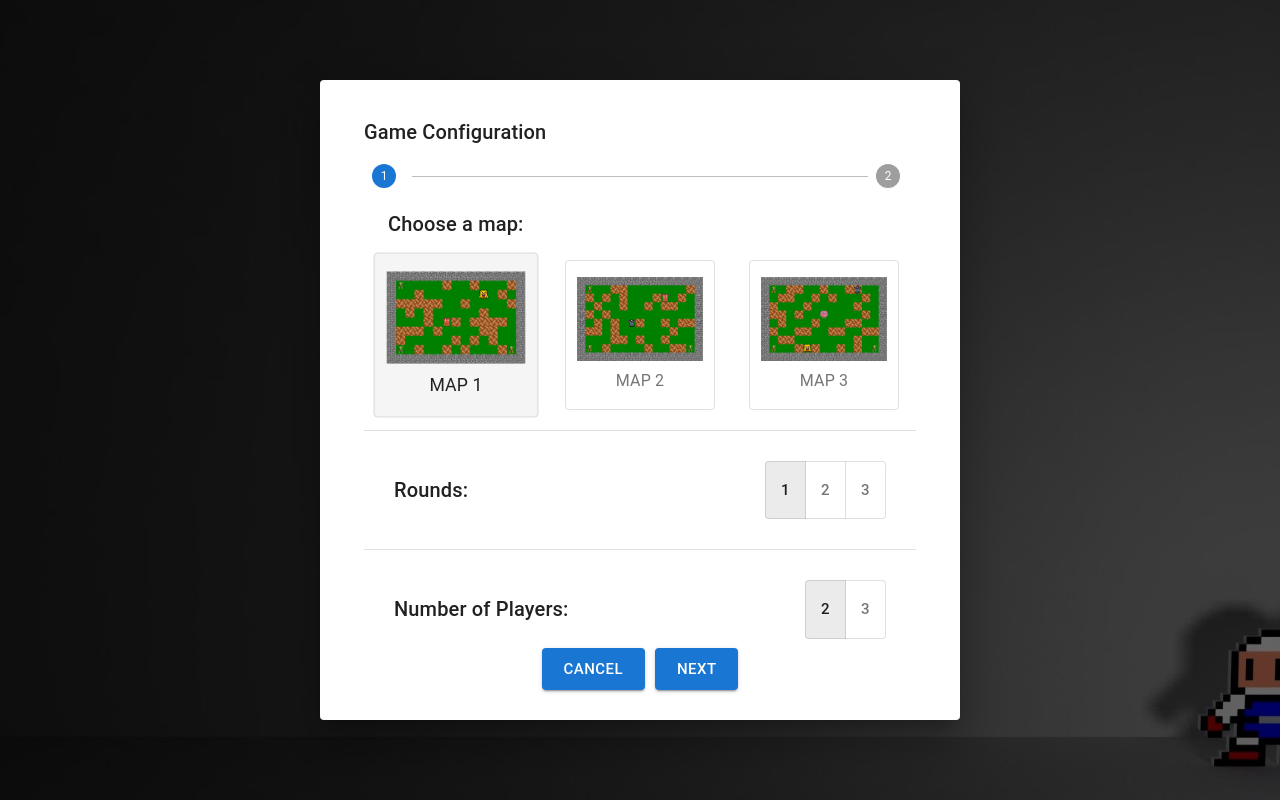
it: ConfigScreen › should proceed to the next step when the next button is clicked
Click the button "Next".
click(697, 669)  # box [655, 648, 738, 690]
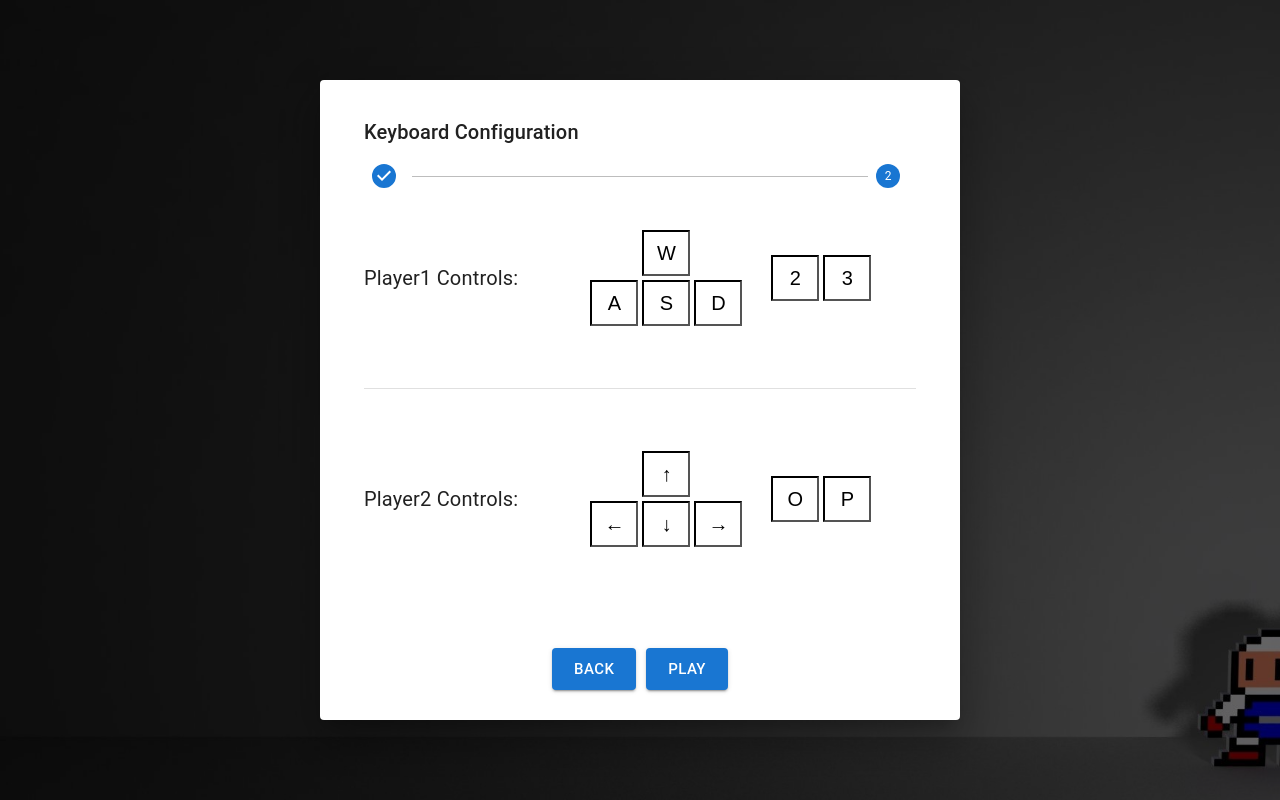
Now the heading "Keyboard Configuration" is shown, box [364, 120, 579, 144]
